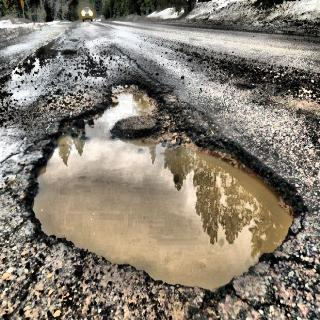pothole: (29, 65, 309, 292)
